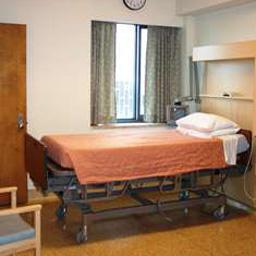Cama: (31, 118, 250, 238)
Puerta: (2, 24, 30, 208)
Ventana: (92, 19, 180, 122)
